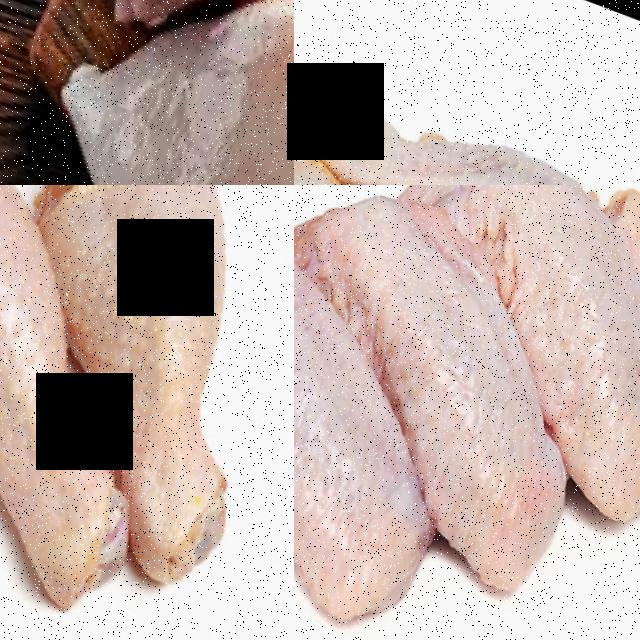chicken breast: (11, 0, 294, 185), (89, 0, 294, 60)
chicken thigh: (0, 185, 294, 579), (0, 185, 193, 601), (294, 60, 640, 185)
chicken wing: (294, 201, 475, 640)
